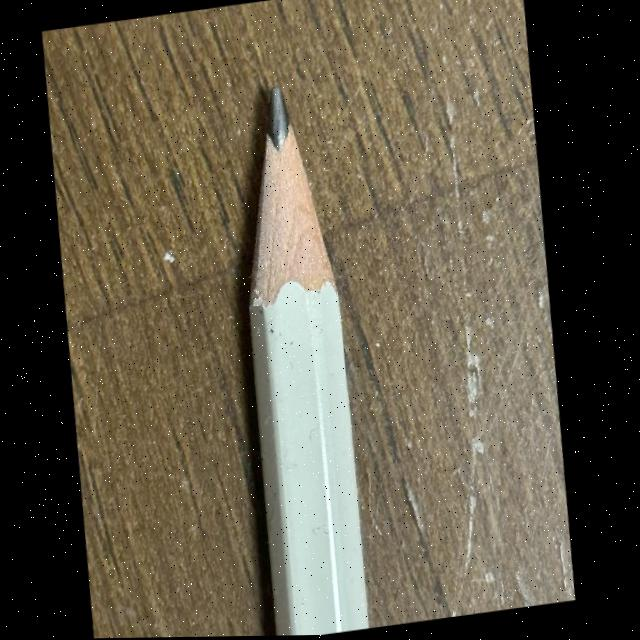pencil: (210, 69, 402, 637)
